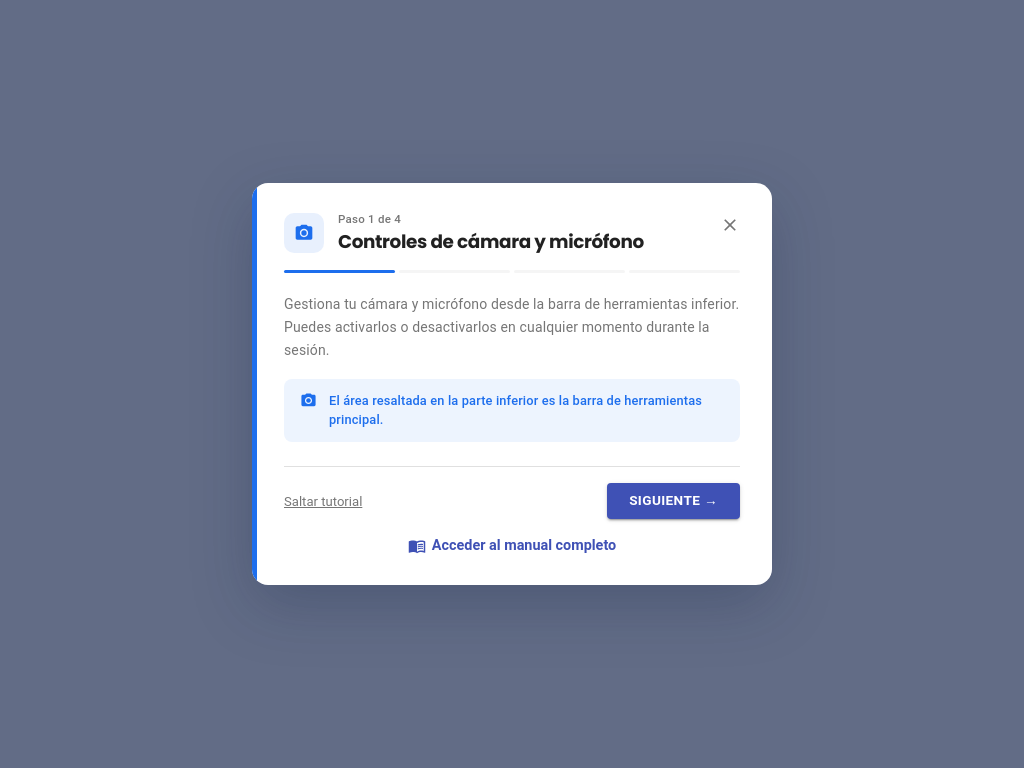
Test case: OnboardingTutorial component › advances to step 2 when Siguiente is clicked
Click the button with test id "onboarding-next" at (674, 501), box [607,483,740,519]
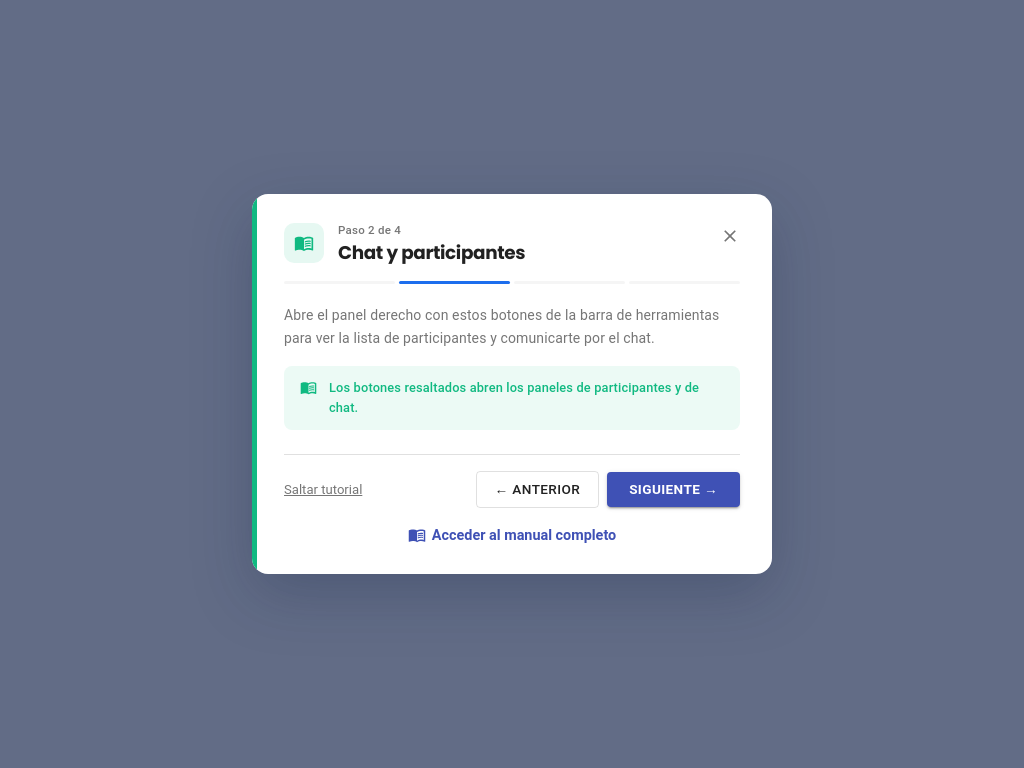
Now the text with test id "onboarding-step-label" reads "Paso 2 de 4", box [338,223,401,237]
Now the text with test id "onboarding-title" reads "Chat y participantes", box [338,240,525,265]
